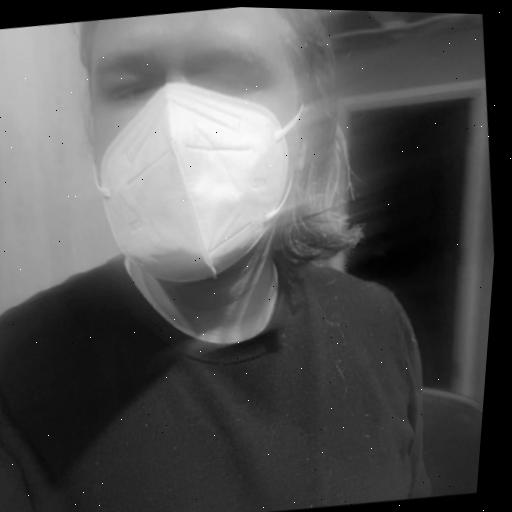mask: (48, 2, 391, 332)
